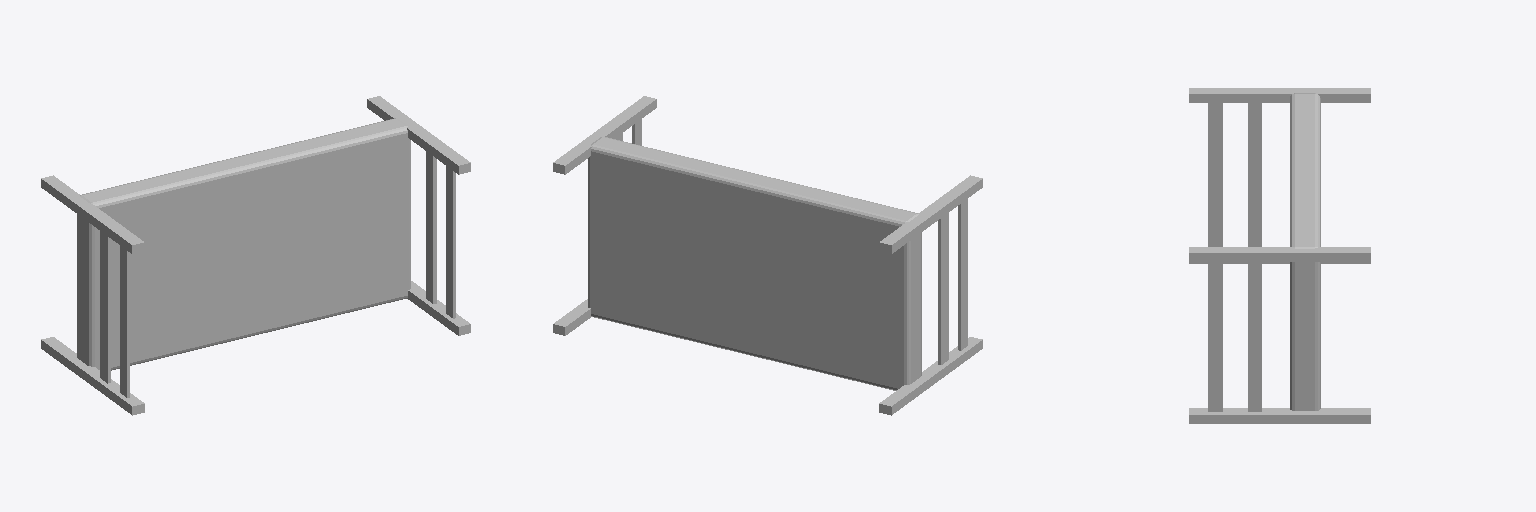
File: Bed1.obj
3 renders of one model, left to right at view 1: azimuth 30°, elevation 25°; view 2: azimuth 150°, elevation 25°; view 3: azimuth 270°, elevation 25°, orthographic.
Parts seen in each view (by area): view 1: BoardSheet, LeftBackLeg, RightBackLeg, LeftFrontLeg, RightDownBar, LeftDownBar, RightUpBar, LeftUpBar, RightFrontLeg; view 2: BoardSheet, LeftBackLeg, RightBackLeg, LeftFrontLeg, LeftDownBar, LeftUpBar, RightFrontLeg; view 3: BoardSheet, RightFrontLeg, RightBackLeg, LeftBackLeg, RightUpBar, LeftUpBar, RightDownBar, LeftDownBar.
Boxes of the visible parts, x1=… form: BoardSheet: x1=77, y1=118, x2=410, y2=370; LeftBackLeg: x1=41, y1=175, x2=144, y2=253; RightBackLeg: x1=367, y1=96, x2=470, y2=174; LeftFrontLeg: x1=41, y1=337, x2=144, y2=415; RightDownBar: x1=426, y1=151, x2=436, y2=303; LeftDownBar: x1=100, y1=231, x2=110, y2=383; RightUpBar: x1=446, y1=166, x2=455, y2=318; LeftUpBar: x1=120, y1=246, x2=129, y2=397; RightFrontLeg: x1=407, y1=281, x2=470, y2=335; BoardSheet: x1=588, y1=137, x2=921, y2=390; LeftBackLeg: x1=879, y1=175, x2=982, y2=253; RightBackLeg: x1=553, y1=96, x2=656, y2=174; LeftFrontLeg: x1=879, y1=337, x2=982, y2=415; LeftDownBar: x1=938, y1=213, x2=948, y2=364; LeftUpBar: x1=958, y1=199, x2=967, y2=350; RightFrontLeg: x1=553, y1=299, x2=591, y2=335; BoardSheet: x1=1290, y1=93, x2=1320, y2=410; RightFrontLeg: x1=1189, y1=408, x2=1370, y2=423; RightBackLeg: x1=1189, y1=247, x2=1370, y2=261; LeftBackLeg: x1=1189, y1=88, x2=1370, y2=102; RightUpBar: x1=1208, y1=262, x2=1222, y2=411; LeftUpBar: x1=1208, y1=103, x2=1222, y2=246; RightDownBar: x1=1248, y1=262, x2=1261, y2=411; LeftDownBar: x1=1248, y1=103, x2=1261, y2=246.
Bounding box in the file's own units: 2.25 × 1.09 × 1.05.